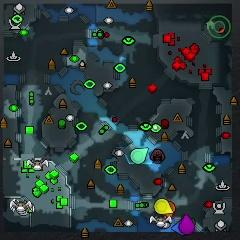p1: (172, 221, 183, 234)
p2: (130, 147, 149, 164)
p3: (179, 214, 195, 234)
p4: (154, 198, 173, 213)
p5: (164, 201, 176, 218)
